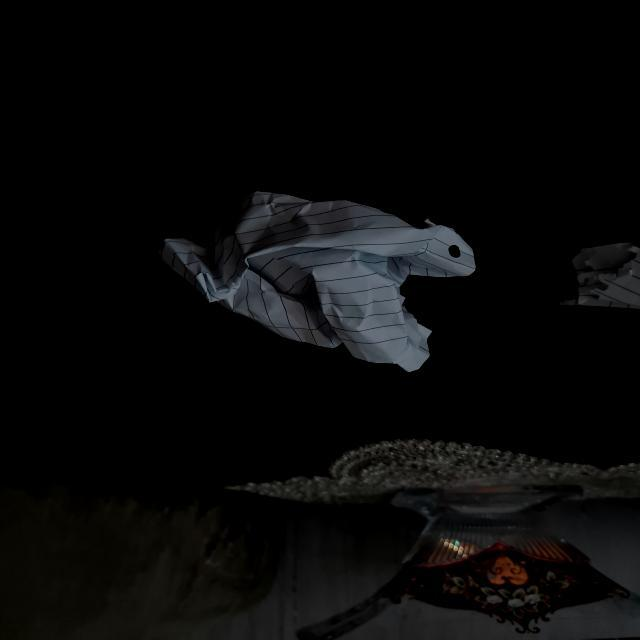Paper: (162, 180, 481, 379)
